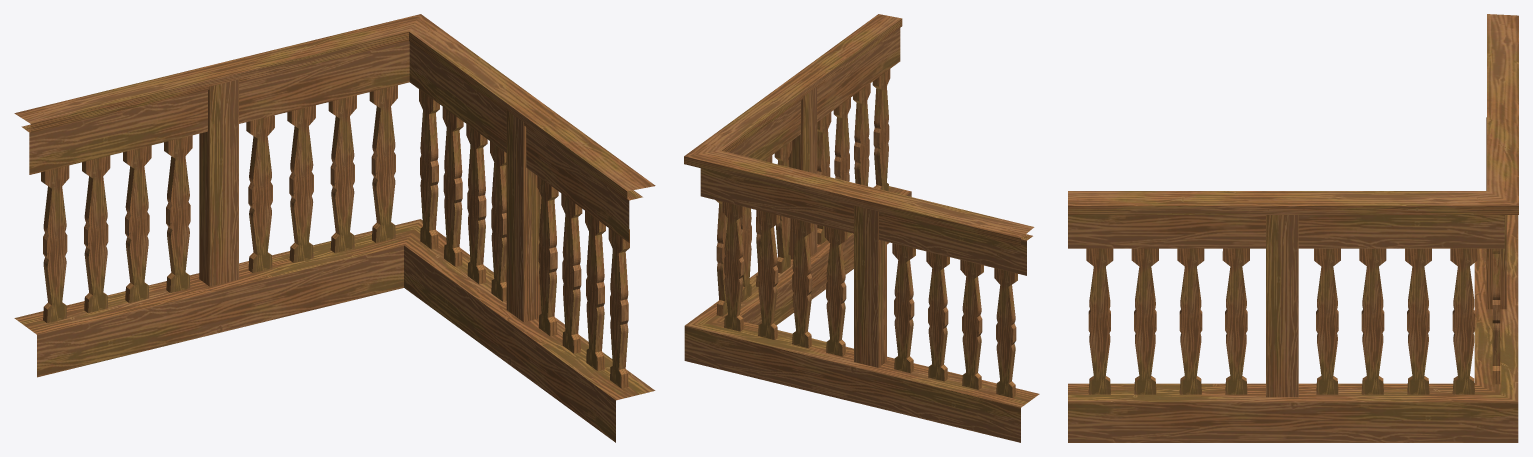
File: balcony-simple-corner.glb
3 renders of one model, left to right at view 1: azimuth 30°, elevation 25°; view 2: azimuth 150°, elevation 25°; view 3: azimuth 270°, elevation 25°, orthographic. The views are drawn at different scales.
Parts seen in each view (by area): view 1: Balcony_Simple_Corner; view 2: Balcony_Simple_Corner; view 3: Balcony_Simple_Corner.
Boxes of the visible parts, x1=… form: Balcony_Simple_Corner: x1=14, y1=14, x2=655, y2=442; Balcony_Simple_Corner: x1=684, y1=14, x2=1039, y2=442; Balcony_Simple_Corner: x1=1068, y1=14, x2=1518, y2=442.
Size of the model in its own units: 2.1 by 1.23 by 2.1.
1 material, 1 textured.
